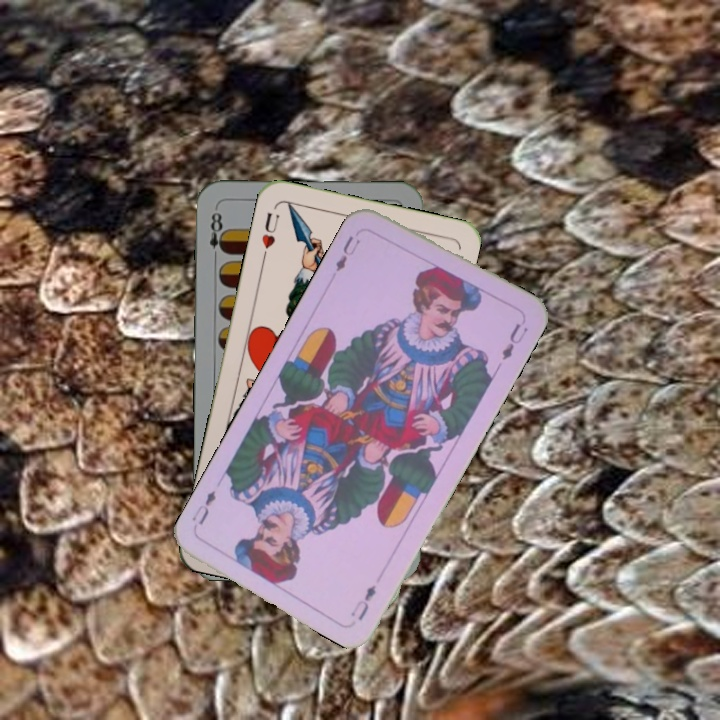E8: (206, 208, 229, 264)
EU: (346, 581, 379, 624), (331, 231, 363, 275)
HU: (257, 209, 282, 262)
